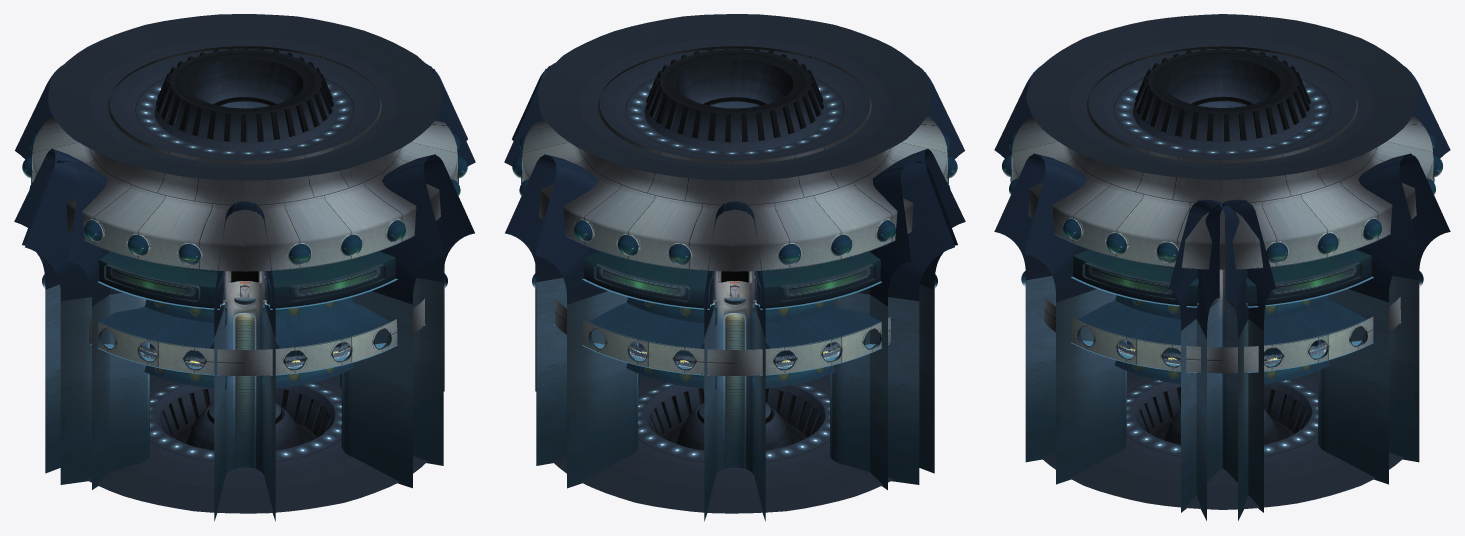
The model's file is galactic_arena.glb.
3 views of the same model, side by side, from view 1: azimuth 30°, elevation 25°; view 2: azimuth 150°, elevation 25°; view 3: azimuth 270°, elevation 25° (orthographic).
Visible parts, largest first — view 1: Object_25, Object_16, Object_15, Object_13, Object_14, Object_23, Object_24, Object_17, Object_19, Object_20, Object_10, Object_18 (+1 smaller); view 2: Object_25, Object_13, Object_16, Object_14, Object_15, Object_23, Object_18, Object_7, Object_17, Object_10, Object_20, Object_24 (+1 smaller); view 3: Object_25, Object_16, Object_13, Object_15, Object_14, Object_23, Object_17, Object_24, Object_18, Object_19, Object_10, Object_12.
Boxes of the visible parts, x1,y1,x2,y2 form: Object_25: (45,265,444,521); Object_16: (32,46,457,375); Object_15: (48,14,440,179); Object_13: (48,14,441,180); Object_14: (85,358,427,513); Object_23: (14,63,475,306); Object_24: (214,154,474,337); Object_17: (31,177,458,308); Object_19: (98,281,425,389); Object_20: (150,258,397,360); Object_10: (22,133,467,369); Object_18: (90,258,339,389); Object_25: (535,265,934,521); Object_13: (538,14,930,180); Object_16: (522,46,947,375); Object_14: (552,359,893,513); Object_15: (538,14,931,180); Object_23: (504,63,965,337); Object_18: (554,278,889,389); Object_7: (566,235,714,308); Object_17: (521,177,948,308); Object_10: (512,133,957,369); Object_20: (582,343,717,389); Object_24: (917,65,964,159); Object_25: (1025,276,1419,520); Object_16: (1011,46,1433,373); Object_13: (1026,14,1417,179); Object_15: (1028,14,1418,179); Object_14: (1041,355,1403,509); Object_23: (1168,66,1450,338); Object_17: (1010,176,1390,306); Object_24: (994,66,1096,302); Object_18: (1126,256,1373,384); Object_19: (1043,276,1198,384); Object_10: (1002,133,1442,366); Object_12: (1113,248,1326,364).
Bounding box in the file's own units: 154 × 122 × 139.
18 materials, 18 textured.
